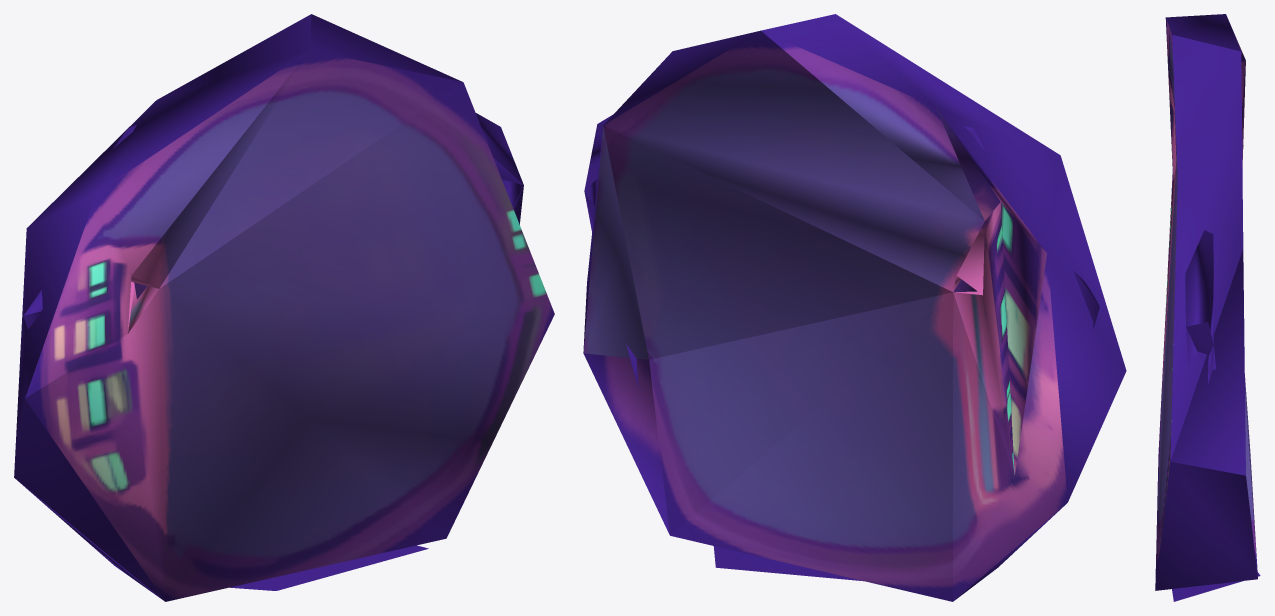
Rendered from neon-infinity-mirror.glb.
3 views of the same model, side by side, from view 1: azimuth 30°, elevation 25°; view 2: azimuth 150°, elevation 25°; view 3: azimuth 270°, elevation 25° (orthographic). The views are drawn at different scales.
Parts seen in each view (by area): view 1: geometry_0; view 2: geometry_0; view 3: geometry_0.
Part boxes in pixels (x1=…): geometry_0: x1=14, y1=14, x2=554, y2=601; geometry_0: x1=583, y1=14, x2=1126, y2=601; geometry_0: x1=1155, y1=14, x2=1260, y2=601.
Size of the model in its own units: 1.02 by 0.9725 by 0.1816.
Materials: 1 (1 with a texture image).
